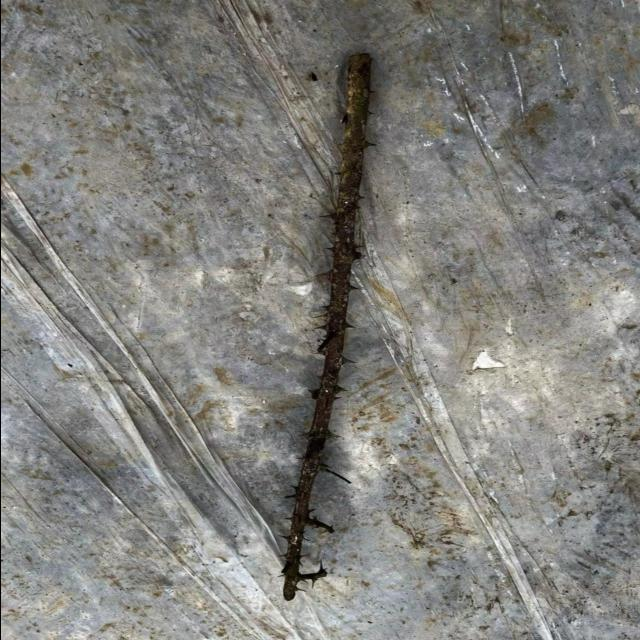branch: (282, 52, 370, 601)
